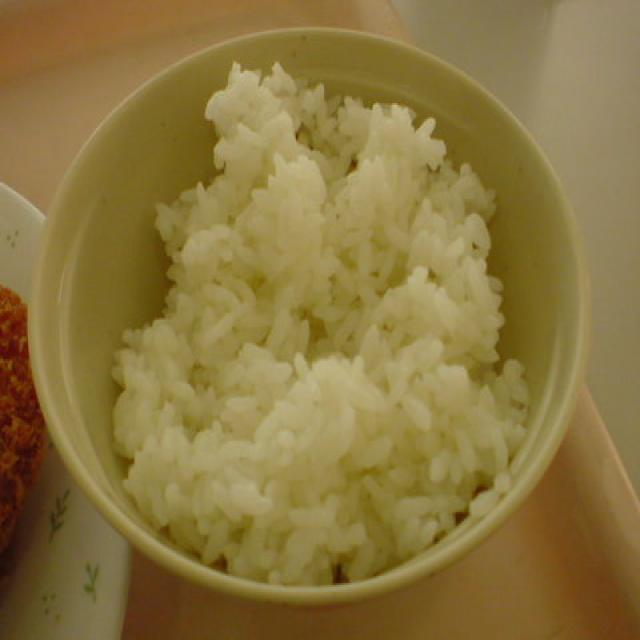Rice: (112, 59, 524, 568)
